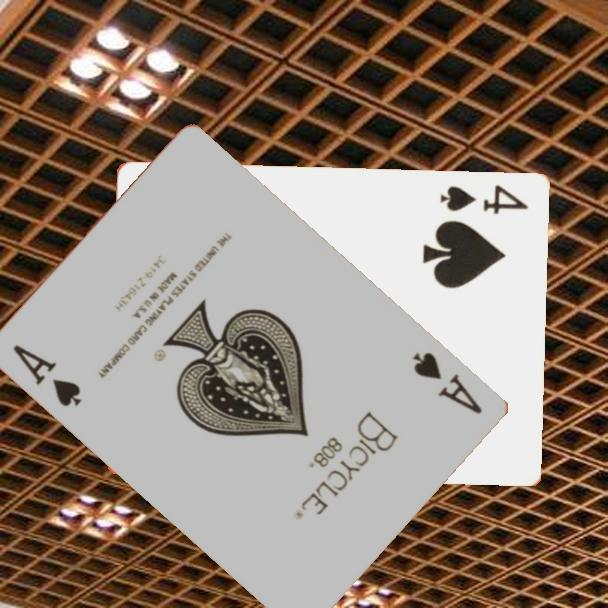s01: (409, 348, 486, 418), (10, 341, 86, 410)
s04: (436, 182, 531, 218)
